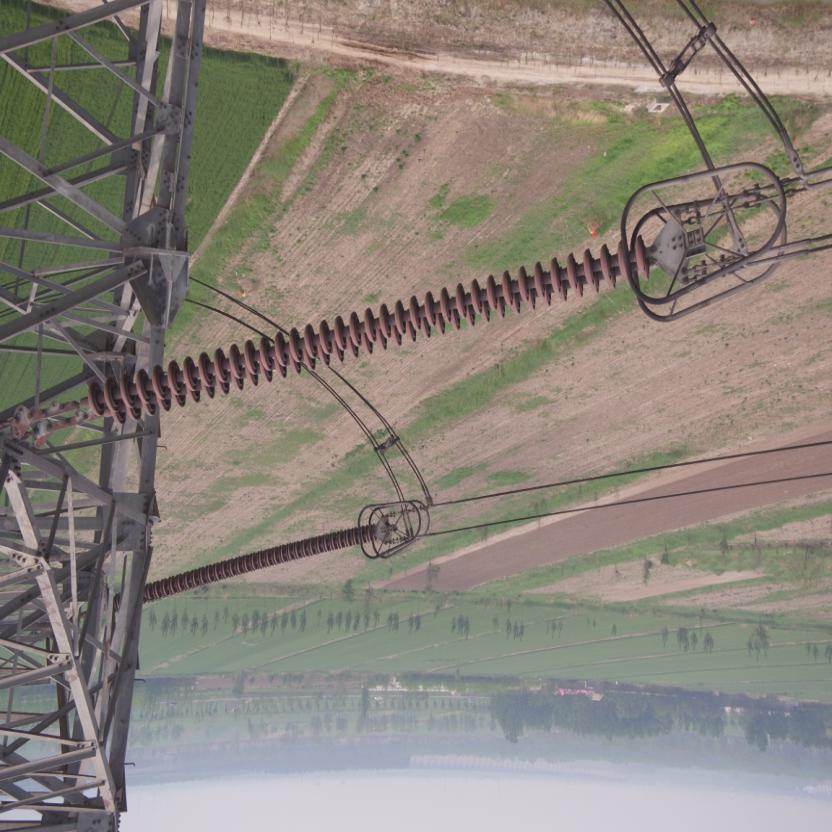insulator: (55, 231, 664, 429), (145, 522, 382, 606)
